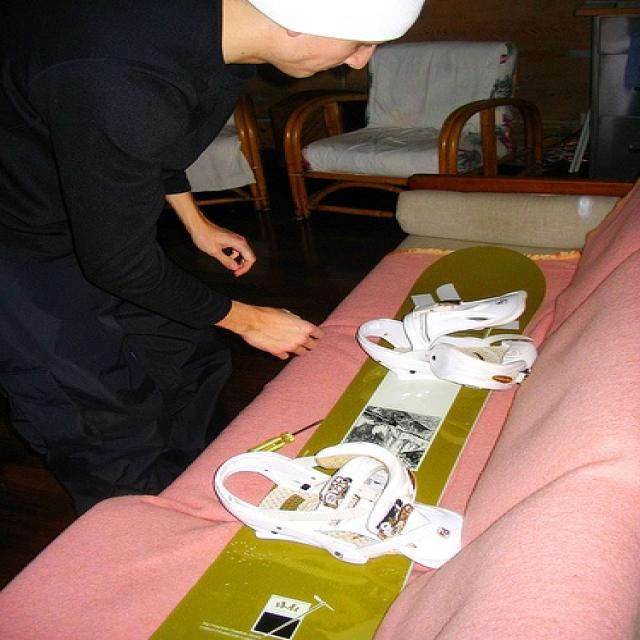chair: (287, 38, 544, 220), (150, 94, 270, 212)
sofa: (0, 174, 638, 638)
